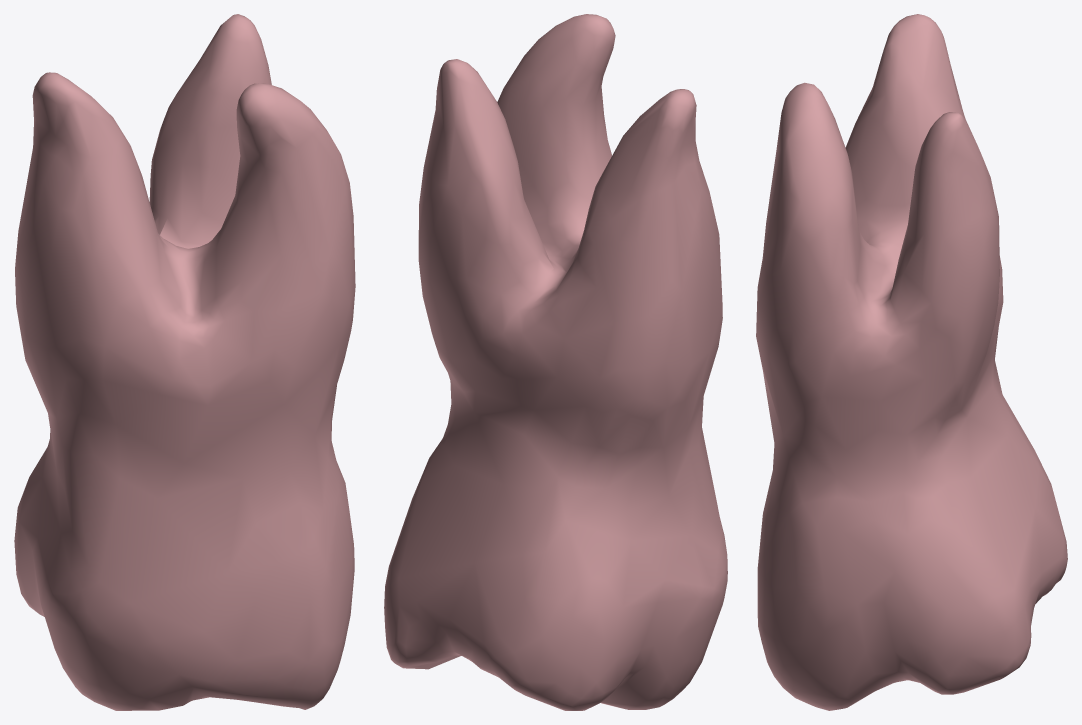
Rendered from fma55699_fj1261.glb.
3 renders of one model, left to right at view 1: azimuth 30°, elevation 25°; view 2: azimuth 150°, elevation 25°; view 3: azimuth 270°, elevation 25°, orthographic. The views are drawn at different scales.
Visible parts, largest first — view 1: FMA55699_FJ1261; view 2: FMA55699_FJ1261; view 3: FMA55699_FJ1261.
Boxes of the visible parts, left/top/right/bottom form: FMA55699_FJ1261: left=14, top=14, right=355, bottom=710; FMA55699_FJ1261: left=384, top=14, right=727, bottom=710; FMA55699_FJ1261: left=756, top=14, right=1067, bottom=710.
Size of the model in its own units: 0.0116 by 0.0246 by 0.0115.
